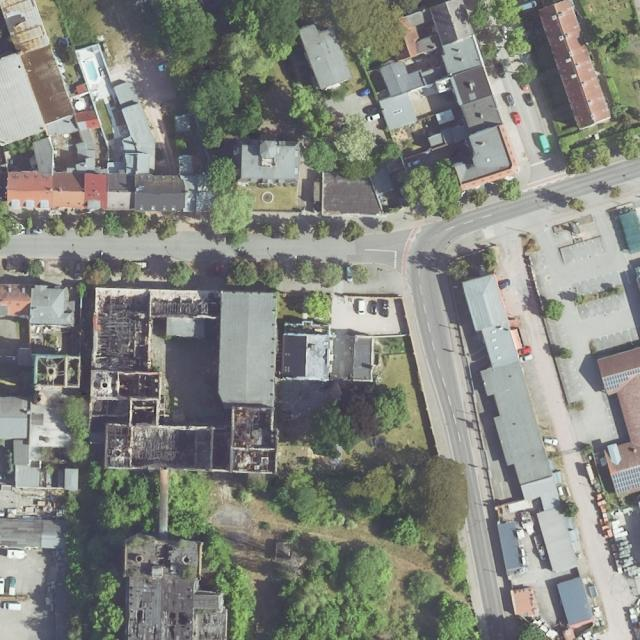PV: (603, 368, 640, 391), (613, 466, 640, 494)
